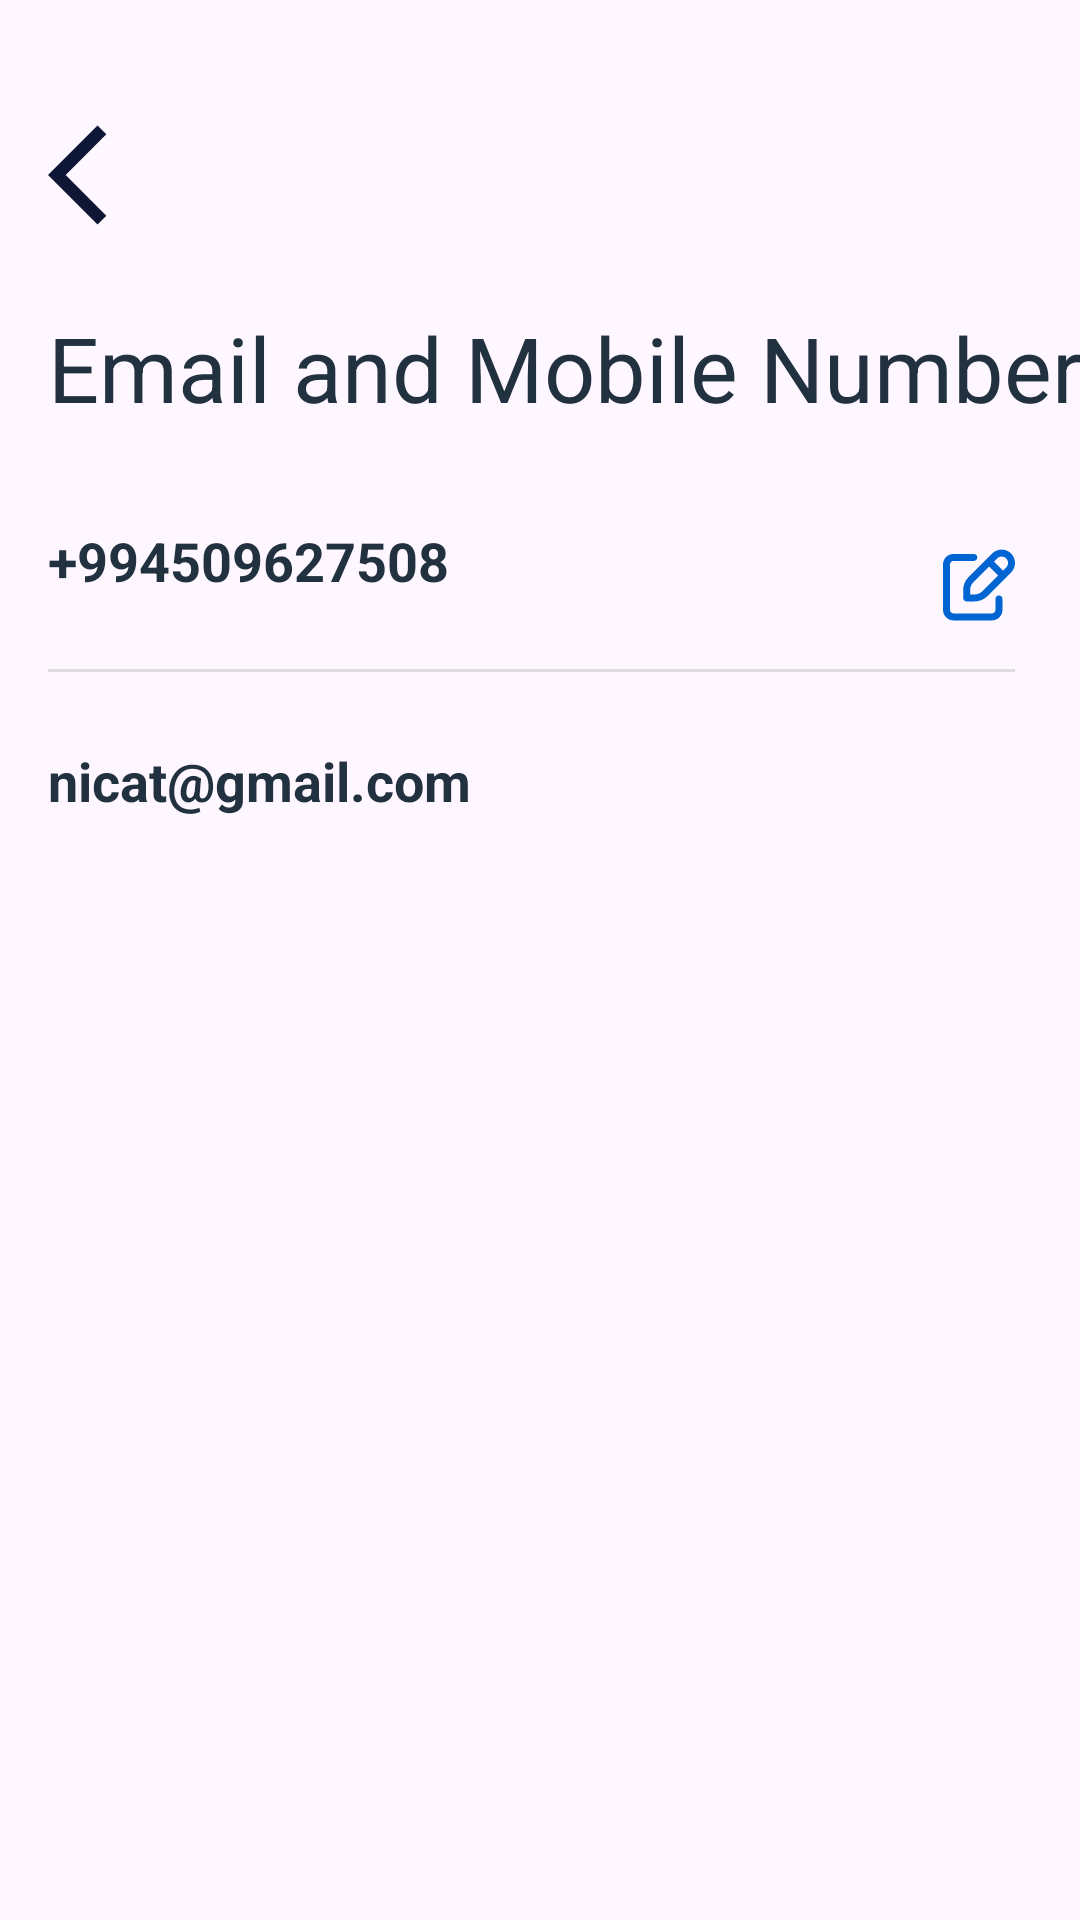

Where icons sit on this 1080x1920 app screen, as box(x1, y1, x2, y2):
arrow back darkblue: box(48, 125, 107, 225)
edit: box(943, 549, 1015, 621)
